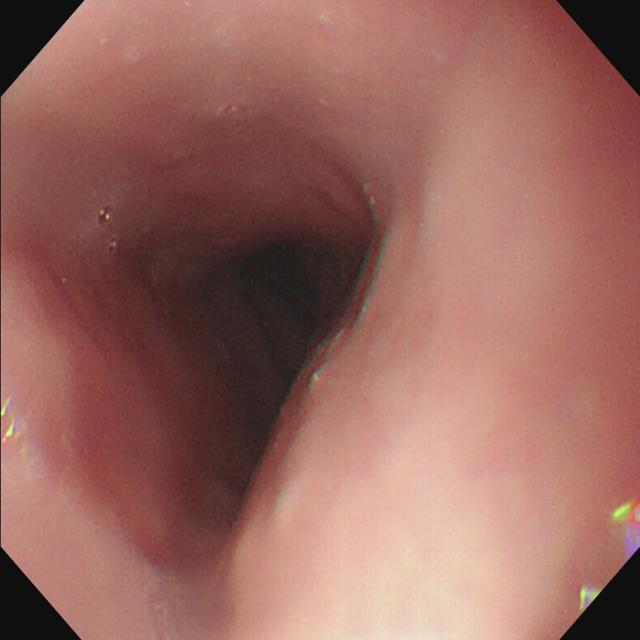E: (238, 251, 316, 381)
T: (94, 200, 121, 231)
U: (614, 499, 640, 556)
